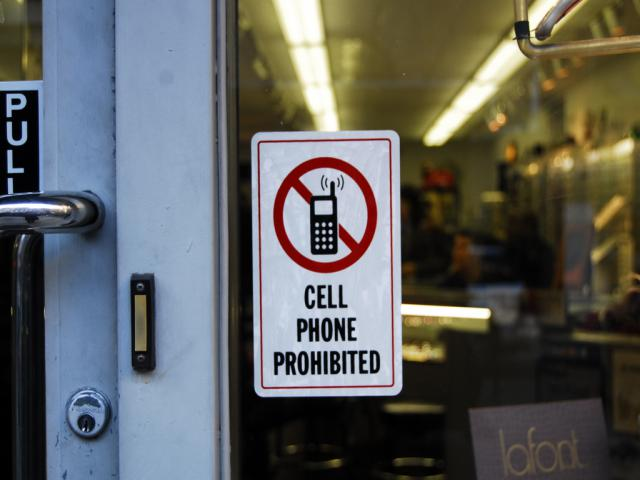Door-handle: (0, 191, 105, 238)
